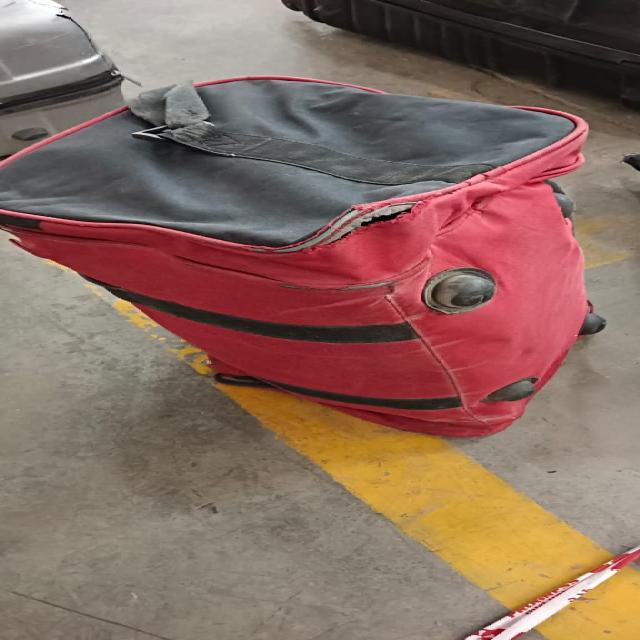Damage-bag: (244, 201, 419, 254), (278, 270, 417, 291)
